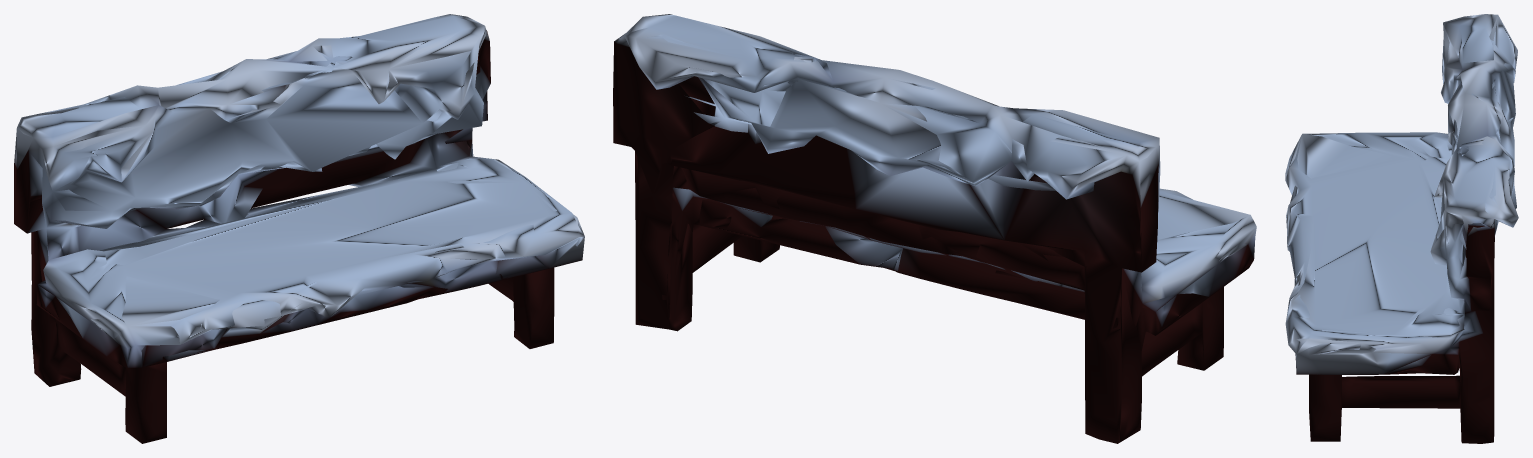
File: gen3d-snowy-bench-lod0.glb
The picture shows the model from 3 angles, left to right: view 1: azimuth 30°, elevation 25°; view 2: azimuth 150°, elevation 25°; view 3: azimuth 270°, elevation 25°; orthographic projection. The views are drawn at different scales.
Parts seen in each view (by area): view 1: part_0; view 2: part_0; view 3: part_0.
Part boxes in pixels (<box>): part_0: <box>14,14,584,443</box>; part_0: <box>613,14,1256,443</box>; part_0: <box>1285,14,1518,443</box>.
Size of the model in its own units: 1.82 by 0.9983 by 0.8632.
